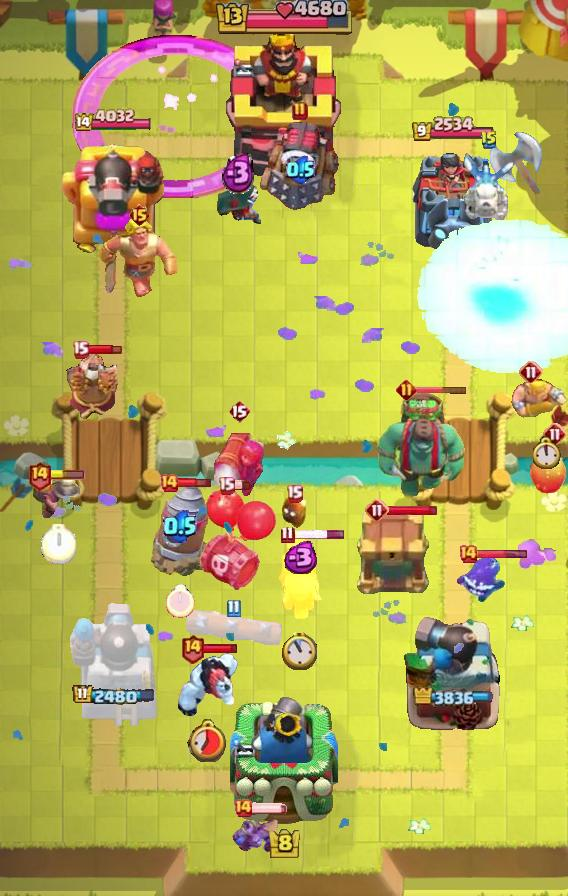archer: (510, 377, 568, 421)
bandit: (32, 471, 84, 523)
bomb: (356, 508, 434, 596)
bomber: (280, 492, 308, 530)
clock: (213, 0, 355, 38)
electro-spirit: (220, 150, 256, 193), (279, 542, 319, 574), (163, 509, 197, 543), (286, 155, 314, 184)
elite-barbarian: (276, 536, 322, 620)
elixir: (187, 718, 229, 762), (282, 630, 318, 669), (41, 524, 76, 564), (165, 584, 194, 618), (534, 435, 563, 468)
elixir-collector: (61, 345, 123, 423)
emote: (386, 503, 438, 516), (293, 528, 346, 539), (476, 549, 528, 560), (414, 385, 468, 395), (250, 802, 288, 814), (176, 475, 211, 488), (87, 343, 122, 355), (201, 642, 239, 653), (49, 470, 85, 480), (232, 481, 251, 492)
goblin-hut: (97, 217, 181, 299)
golem: (259, 119, 341, 213)
hog: (528, 451, 568, 495)
king-tower: (224, 29, 344, 181), (230, 692, 338, 826)
knight-evolution: (72, 34, 280, 197)
lava-hound: (374, 389, 468, 499)
magic-archer: (150, 483, 210, 577)
mega-knight: (412, 215, 568, 377)
mega-minion: (210, 419, 268, 499)
mini-pekka: (462, 151, 516, 223)
minion: (182, 608, 284, 656)
queen-tower: (410, 144, 496, 255)
rage: (176, 653, 240, 719)
royal-delivery: (231, 813, 281, 855)
royal-giant: (487, 129, 545, 201)
royal-recruit-evolution: (195, 488, 277, 594)
selected: (411, 116, 495, 143), (74, 108, 154, 134), (72, 685, 156, 708), (414, 688, 495, 706)
spear-goblin: (455, 557, 507, 603)
tesla: (211, 182, 265, 224)
text: (179, 632, 204, 663), (28, 461, 53, 491), (519, 360, 543, 384), (543, 422, 567, 446), (365, 498, 389, 522), (129, 203, 152, 227), (228, 399, 250, 423), (396, 379, 417, 401), (159, 473, 179, 493), (458, 544, 478, 564), (233, 798, 253, 818), (480, 130, 498, 150), (71, 341, 89, 359), (217, 477, 234, 496), (286, 484, 303, 503), (292, 101, 308, 121), (280, 525, 295, 543), (227, 598, 241, 617)
tower-bar: (60, 138, 168, 256), (69, 599, 159, 731), (402, 615, 504, 731)
